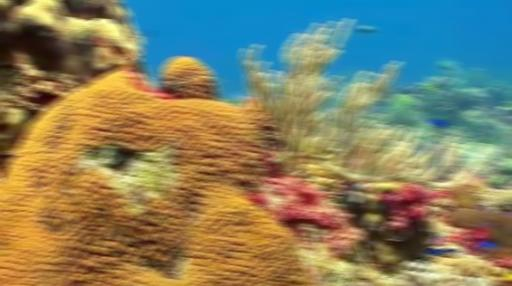Fish: (424, 246, 457, 256), (426, 119, 449, 128), (355, 24, 374, 34), (430, 231, 441, 246), (424, 248, 443, 256), (480, 240, 495, 249), (440, 63, 455, 71), (137, 30, 154, 37), (441, 247, 456, 253)
